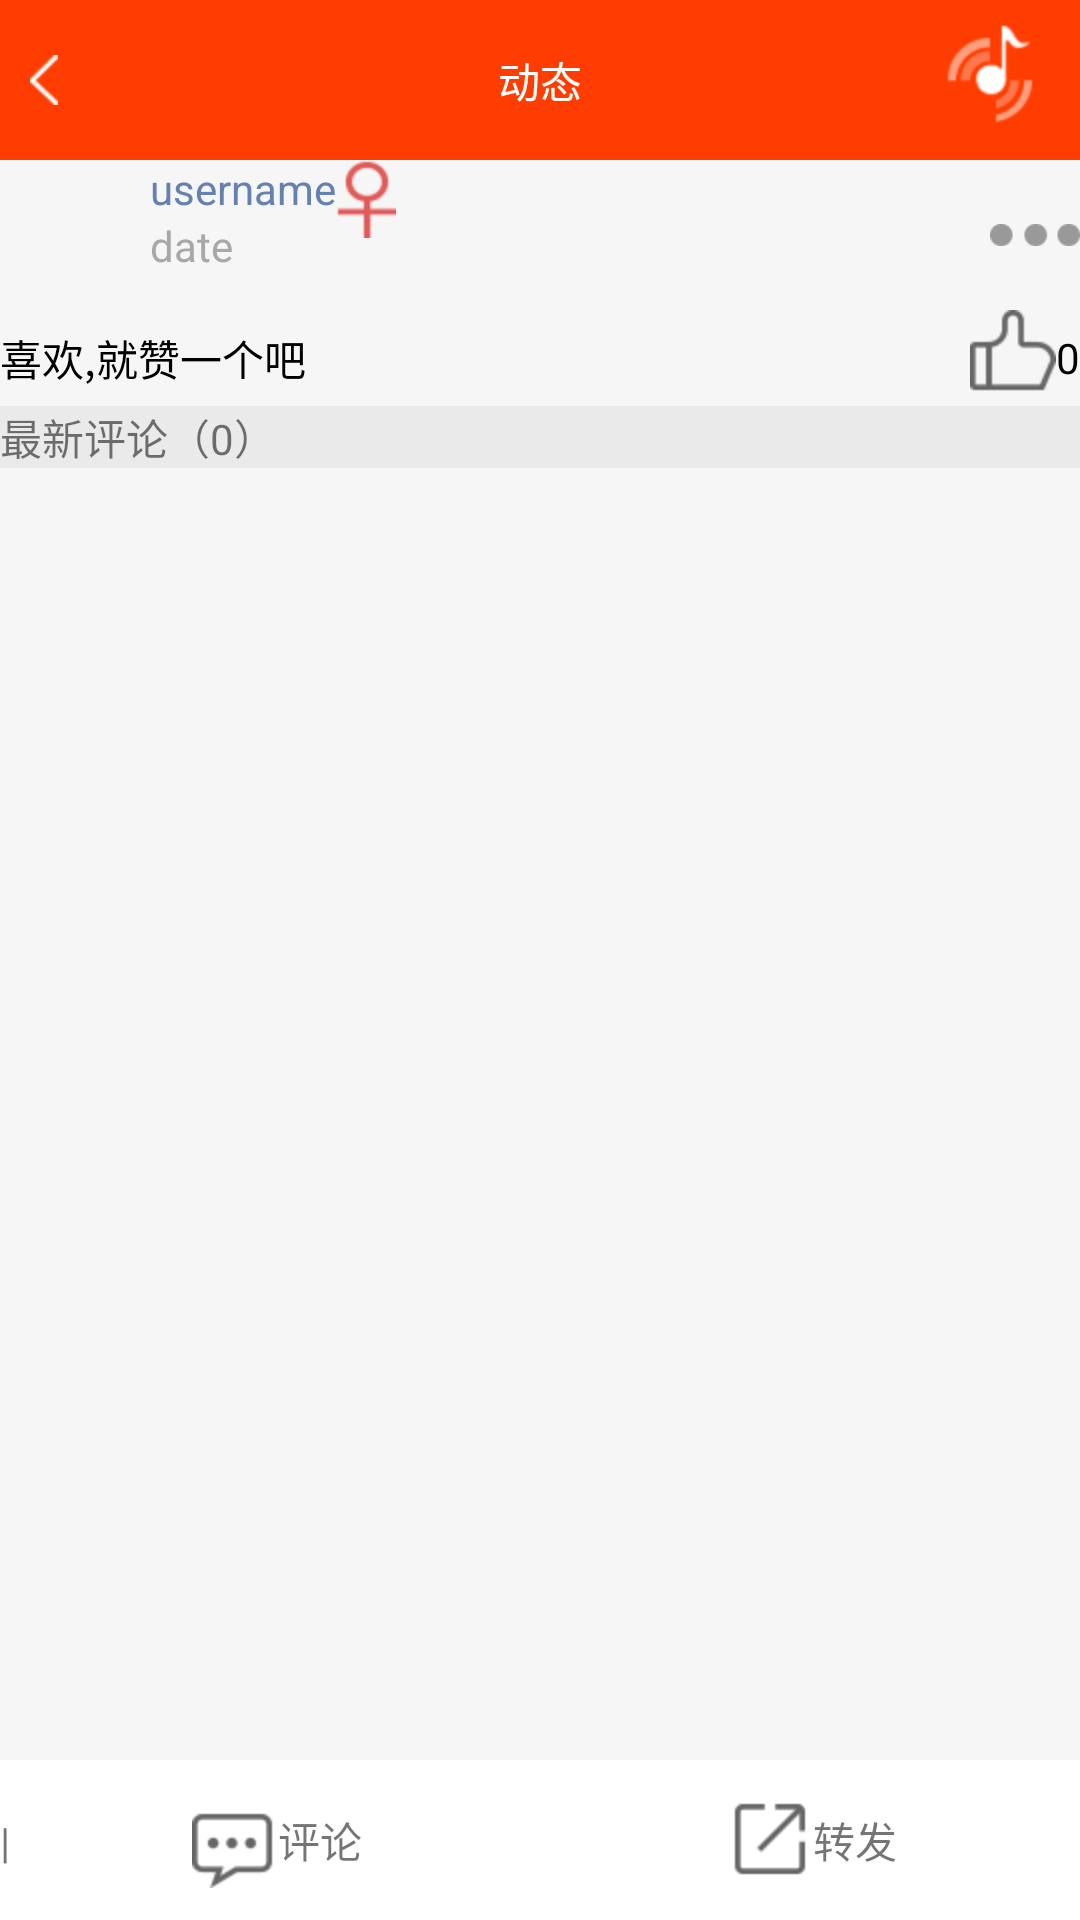

Icons on this 1080 x 1920 Android screen, each with the point to tap as [x,y]:
back: [44,80]
found girl: [366,199]
found more: [1035,235]
play: [990,73]
